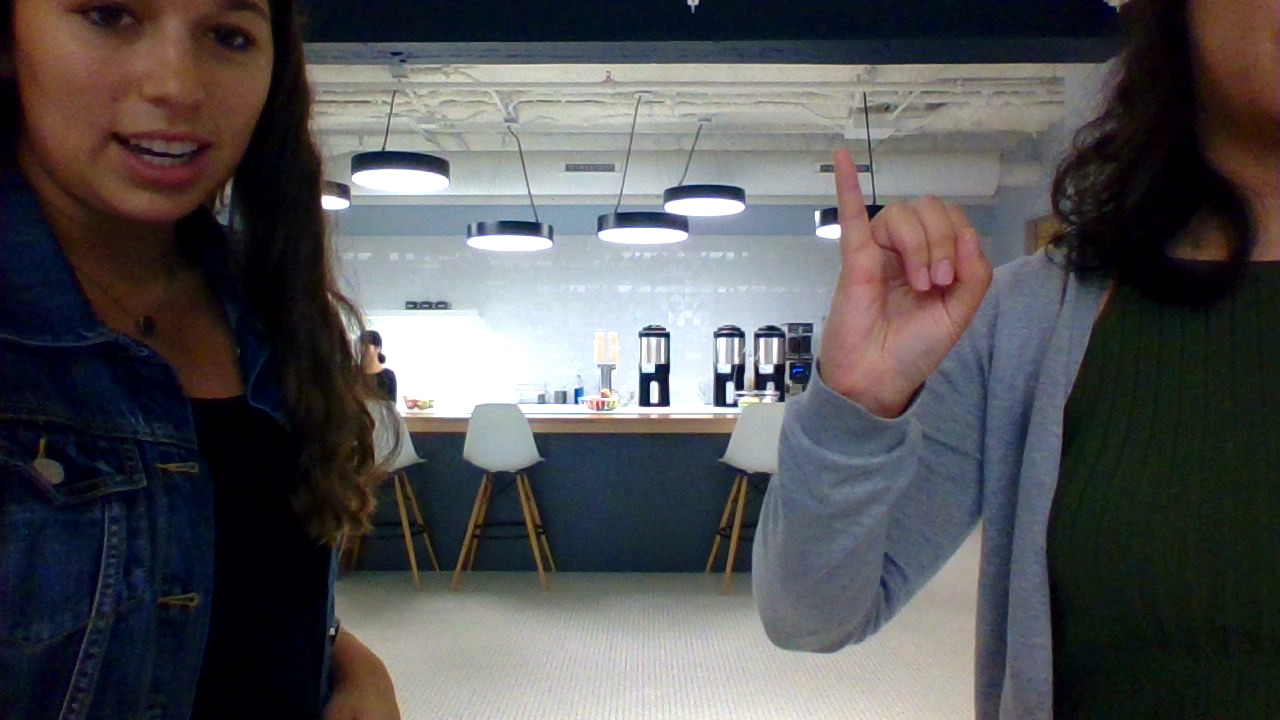i: (814, 132, 997, 424)
